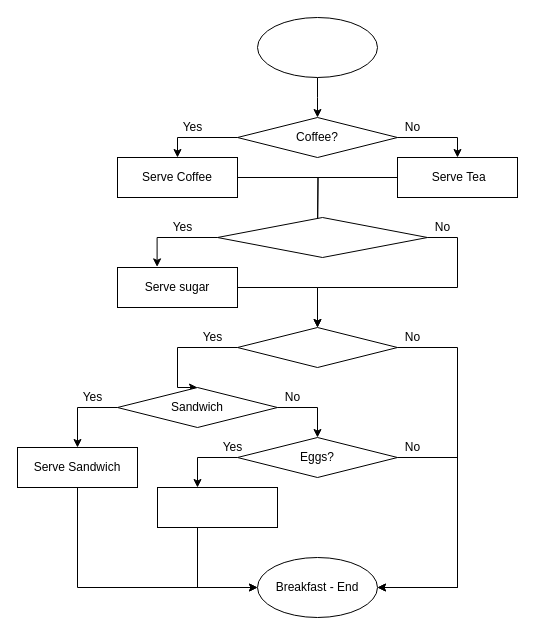
Image size: 535x635. Some labels were removed from this diagram. Here are the shapes that lost their labels. From the top down, the centre of each, then its label:
At point (317, 47): "Breakfast - Start".
At point (322, 237): "Sugar into your cup?".
At point (317, 347): "Food?".
At point (217, 507): "Serve Eggs".
